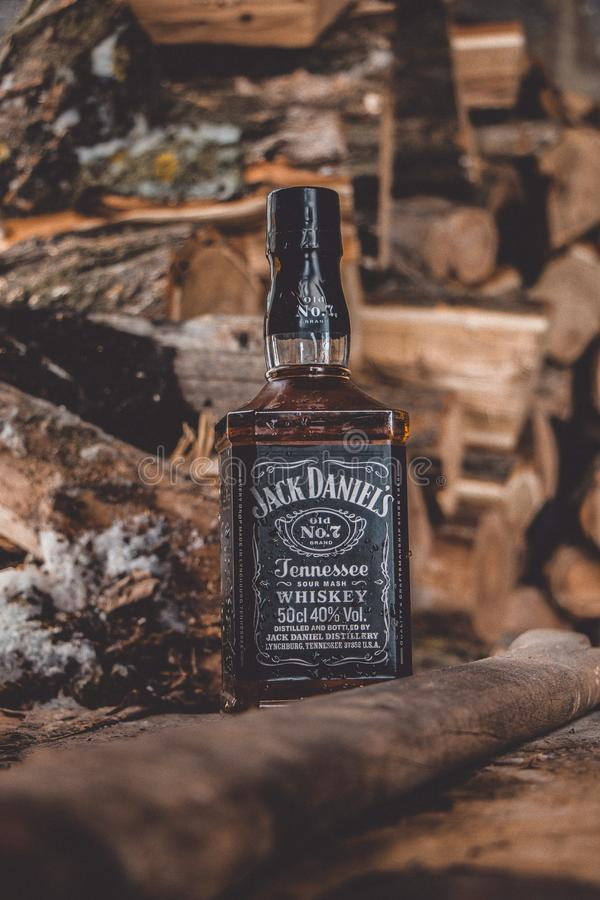Jack Daniel: (204, 177, 427, 718)
